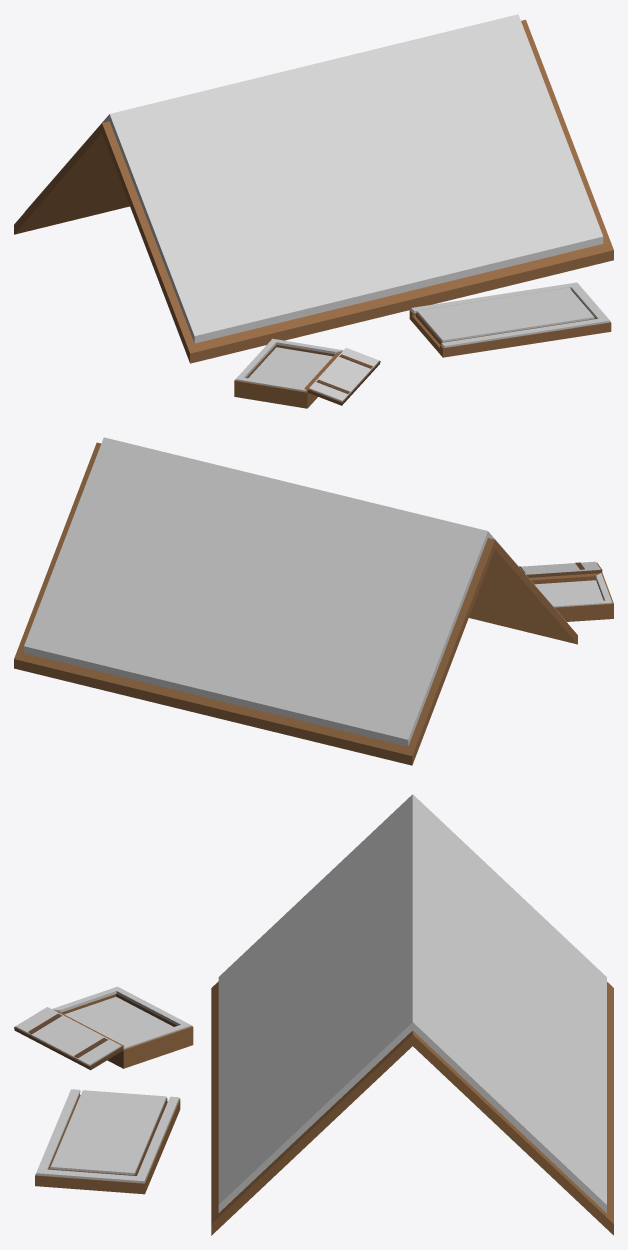
File: House_build_snow_mat.fbx
3 views of the same model, one above another, from view 1: azimuth 30°, elevation 25°; view 2: azimuth 150°, elevation 25°; view 3: azimuth 270°, elevation 25° (orthographic). The views are drawn at different scales.
Parts seen in each view (by area): view 1: House_build_snow_mat; view 2: House_build_snow_mat; view 3: House_build_snow_mat.
Part boxes in pixels (x1=…): House_build_snow_mat: x1=14, y1=14, x2=613, y2=408; House_build_snow_mat: x1=14, y1=437, x2=613, y2=765; House_build_snow_mat: x1=14, y1=794, x2=613, y2=1235.
Bounding box in the file's own units: 284 × 120 × 304.
